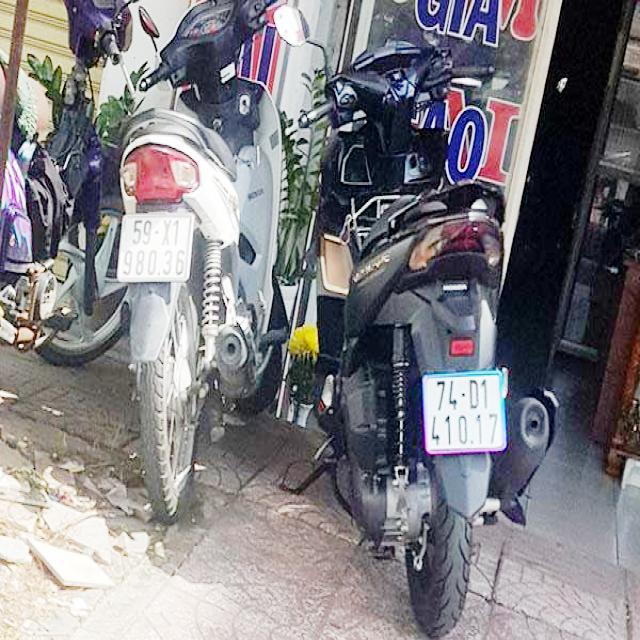license_plate: (427, 369, 508, 452), (121, 215, 196, 282)
